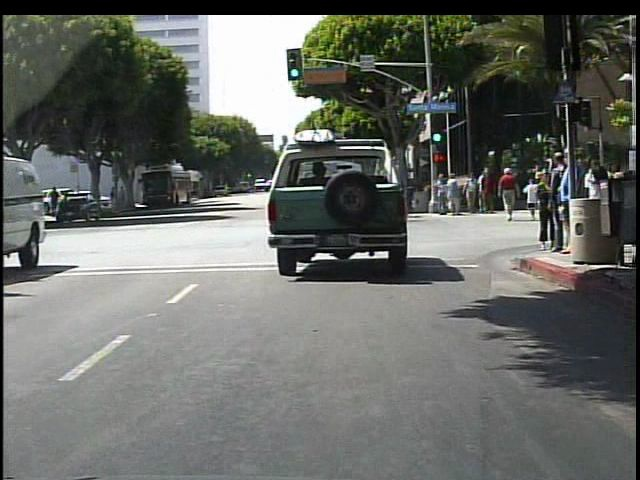person: (556, 147, 581, 262), (535, 166, 559, 251), (551, 150, 568, 254), (501, 165, 521, 223), (523, 176, 544, 224), (541, 169, 556, 219), (448, 172, 463, 217), (482, 167, 495, 211), (466, 171, 479, 212), (479, 166, 490, 211), (440, 174, 451, 217), (109, 185, 119, 209), (120, 184, 128, 210)
